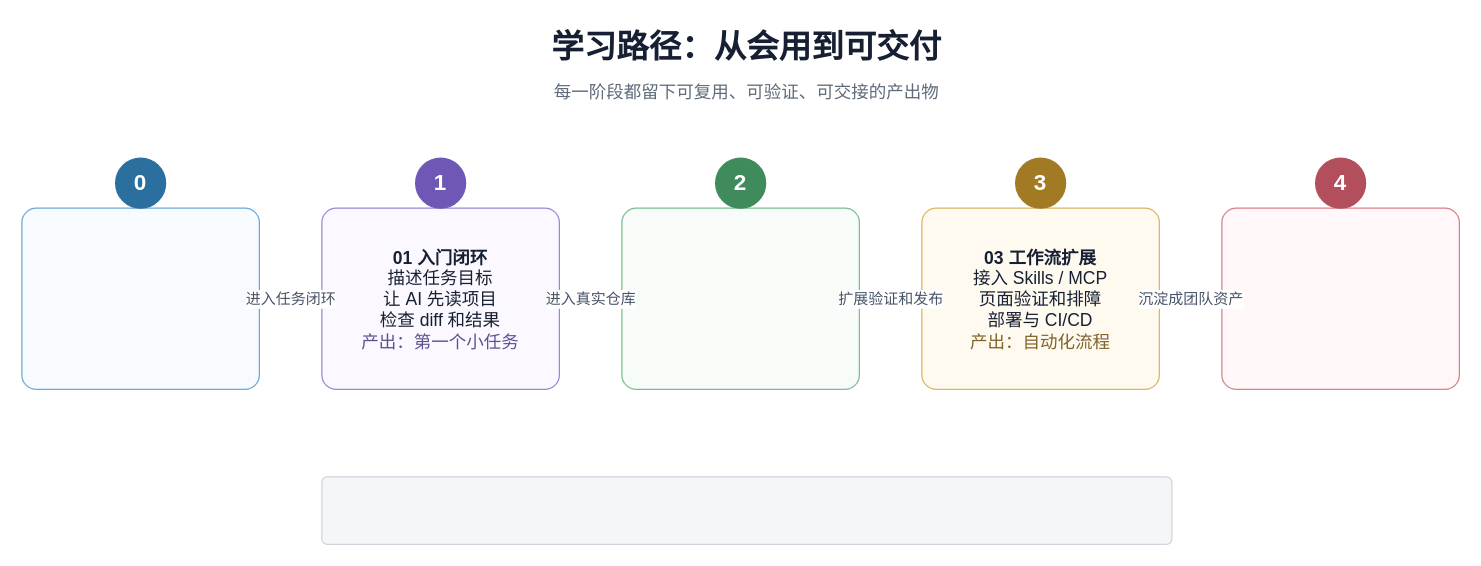
This 1481x566 diagram has some shape labels left out. The shapes that lost their labels are listed below. From the top down, each one's centre as x and y in pixels, then its label:
At pixel 140 298: "00 基础认知 判断产品形态 说明技术栈 写清交付边界 产出：项目背景描述".
At pixel 740 298: "02 工程实践 识别项目结构 本地运行和验证 小步提交改动 产出：通过构建的 commit".
At pixel 1340 298: "04 团队沉淀 沉淀 AGENTS.md 建立验收清单 复盘真实案例 产出：团队 Playbook".
At pixel 746 510: "学习原则：先判断项目，再描述任务；先验证结果，再沉淀规则。".
